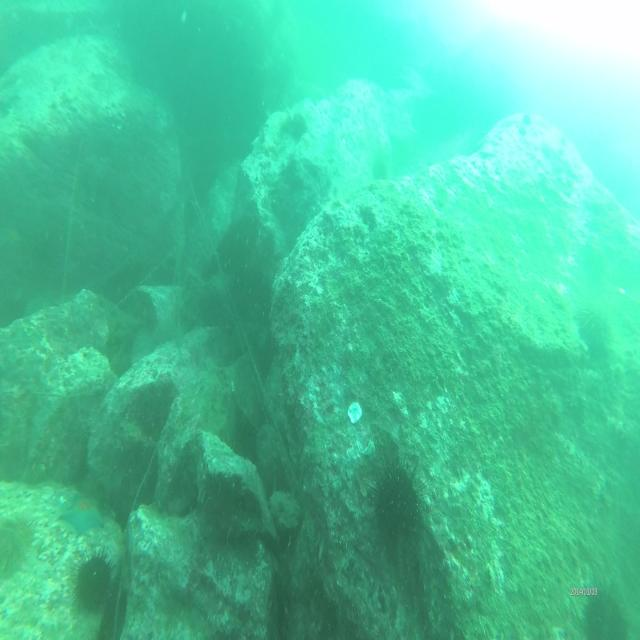echinus: (365, 446, 427, 546), (70, 547, 116, 617), (580, 574, 627, 640), (0, 509, 33, 575), (575, 293, 614, 344)
starfish: (60, 488, 105, 544)
